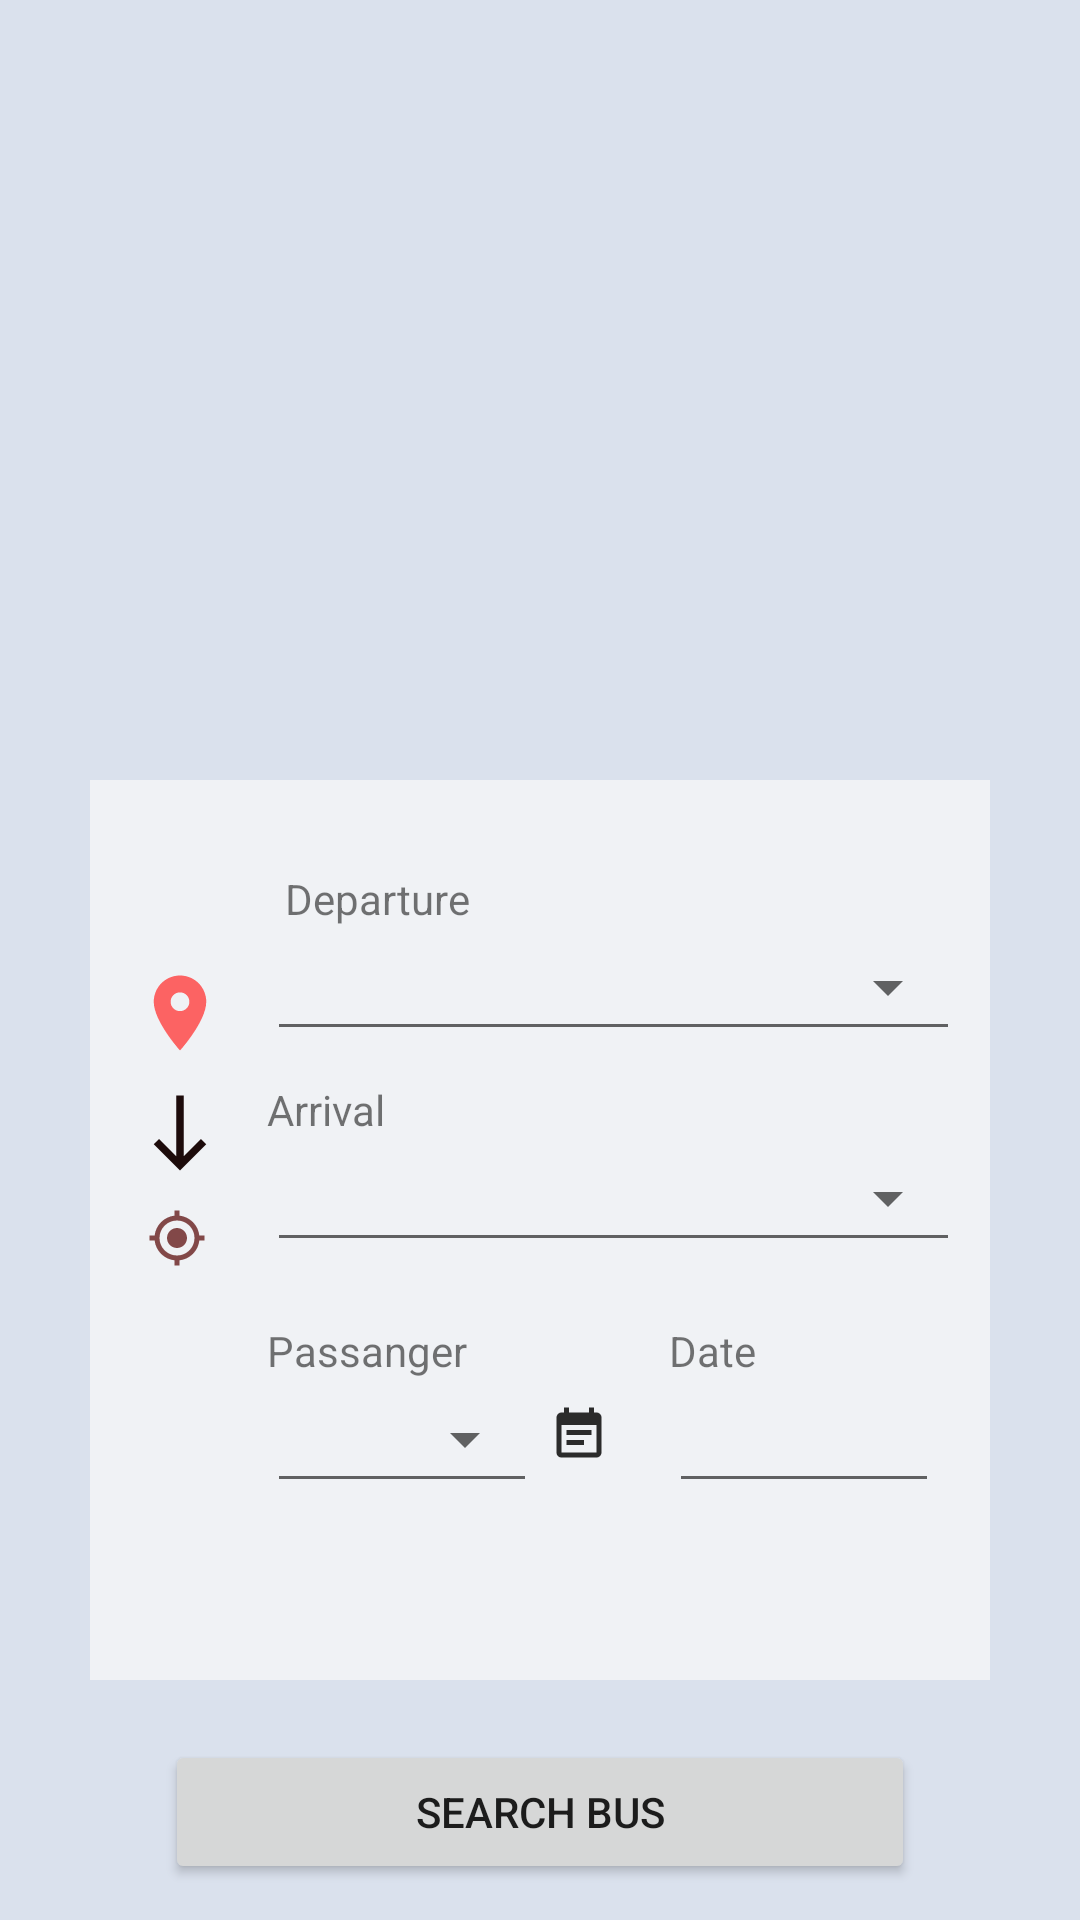

Screen size 1080w x 1920h. Icon name, then its center in pixels as [x,y]:
arahbawah: [180,1133]
location: [180,1012]
target: [177,1238]
